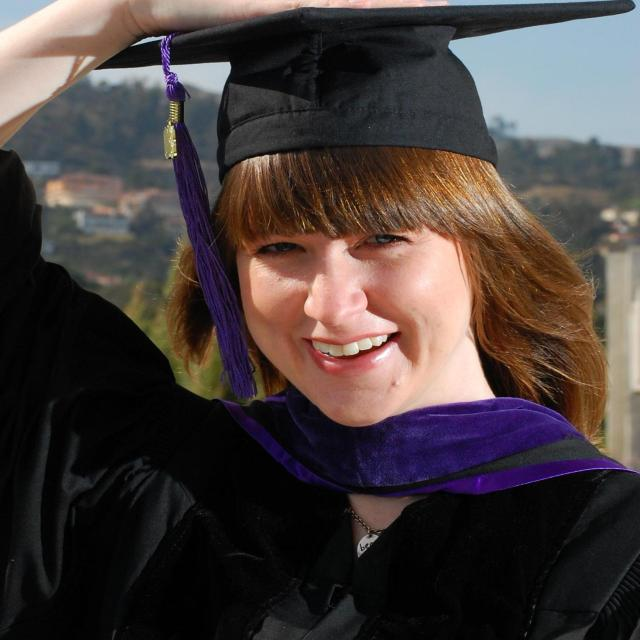no-glass: (252, 223, 416, 260)
